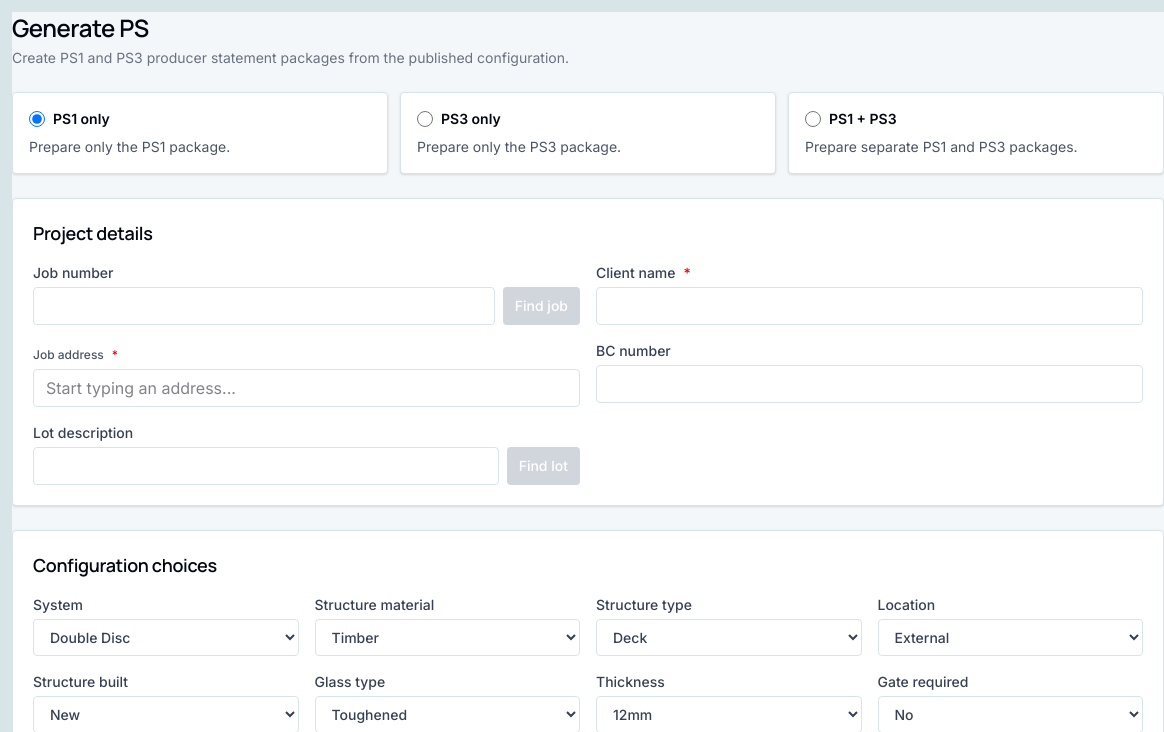
Test: GeneratePsForm › fills the lot description from LINZ for the current job address
Type "18 Lucia Glade Meadowbank, Auckland 1072" into the field labelled "Job address" at x=306, y=388, box x1=33 y1=369 x2=580 y2=407
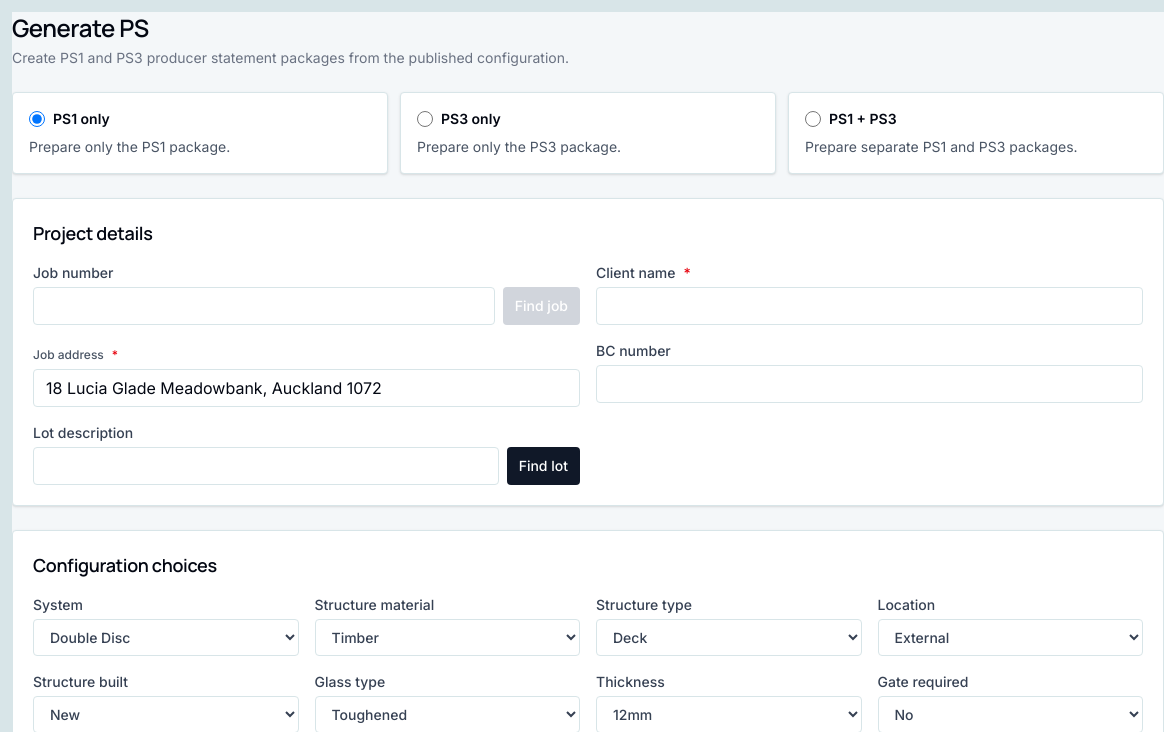
Click the button "Find lot" at x=543, y=466, box x1=507 y1=447 x2=580 y2=485
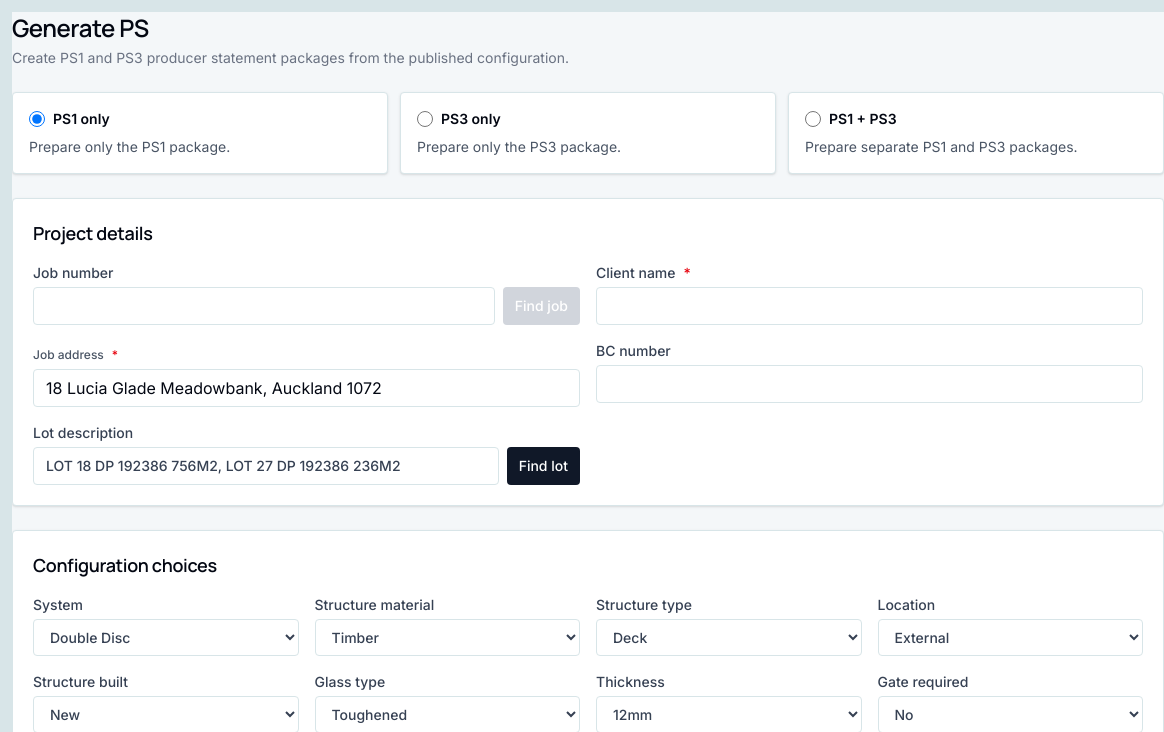
Now the field labelled "Lot description" holds "LOT 18 DP 192386 756M2, LOT 27 DP 192386 236M2", box x1=33 y1=447 x2=499 y2=485
